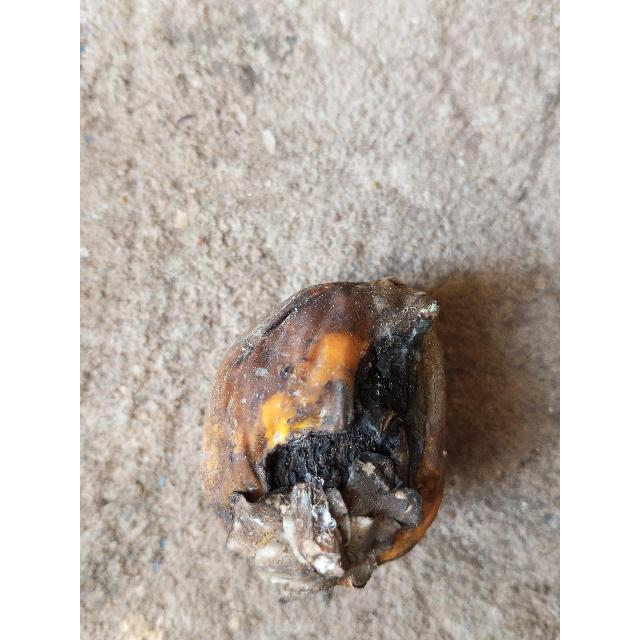damaged: (200, 279, 449, 593)
